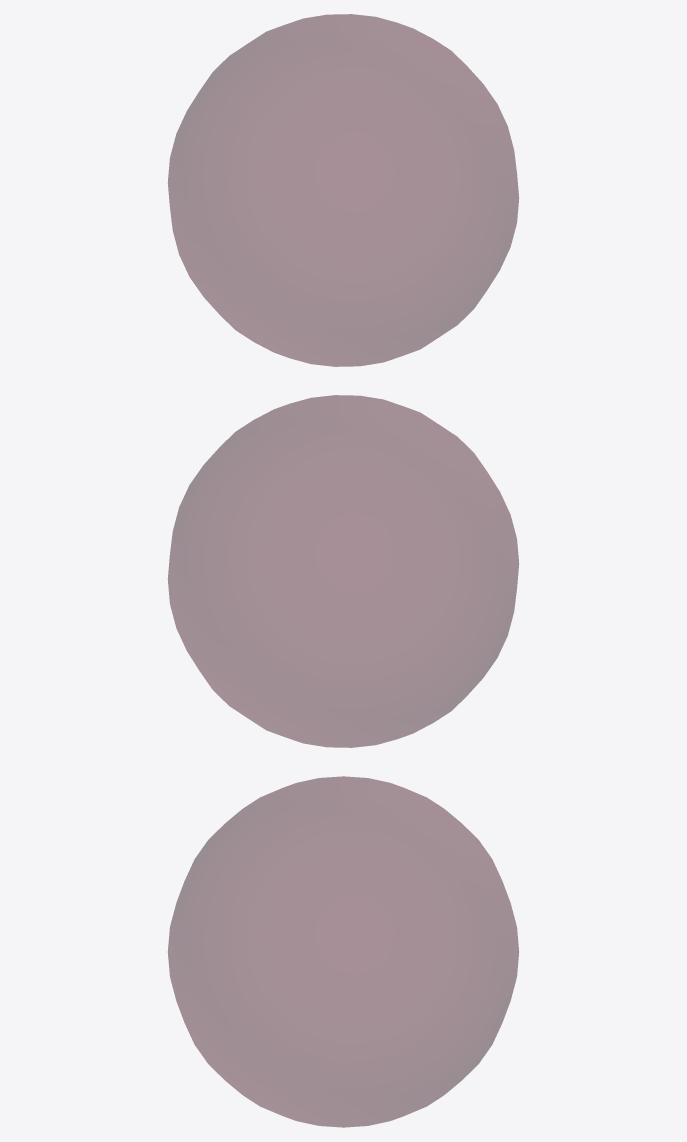
Rendered from planet6.glb.
3 renders of one model, top to bottom at view 1: azimuth 30°, elevation 25°; view 2: azimuth 150°, elevation 25°; view 3: azimuth 270°, elevation 25°, orthographic.
Parts seen in each view (by area): view 1: planet1; view 2: planet1; view 3: planet1.
Part boxes in pixels (x1,y1,x2,y2): planet1: (168, 14, 518, 366); planet1: (168, 395, 518, 747); planet1: (168, 776, 518, 1127).
Size of the model in its own units: 7.5 by 4 by 7.5.
